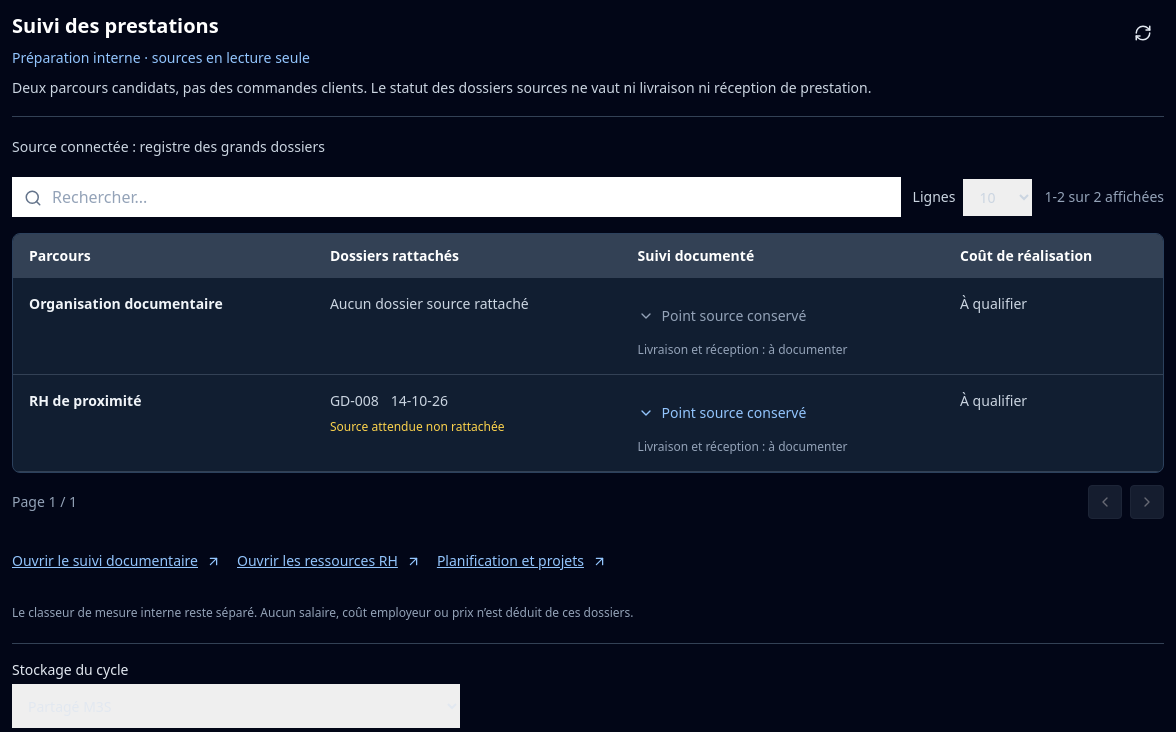
Test: source search and cross-function links reuse the existing spaces
Expected: the text "GD-008" is shown, [330,391,379,410]
Type "Action originale" into the field with placeholder "Rechercher..." at (456, 197), box [12,177,901,217]
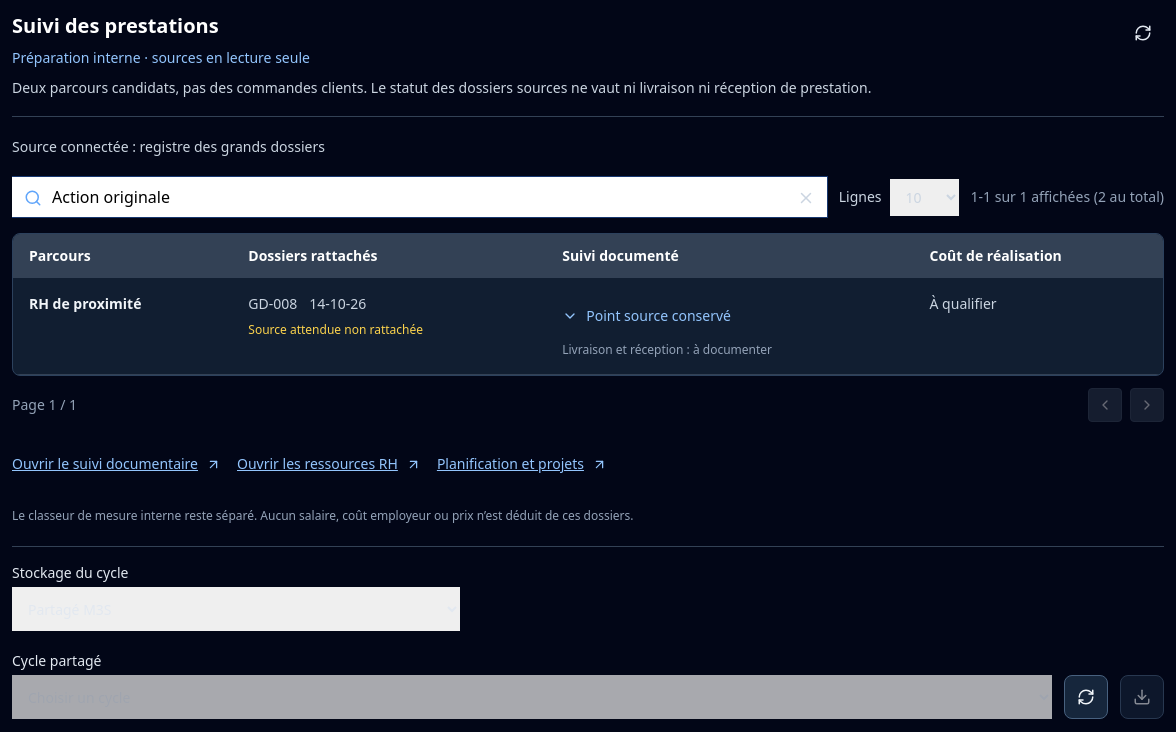
Expected: the column heading "RH de proximité" is shown, [13,278,232,374]
Result: the column heading "Organisation documentaire" is gone
